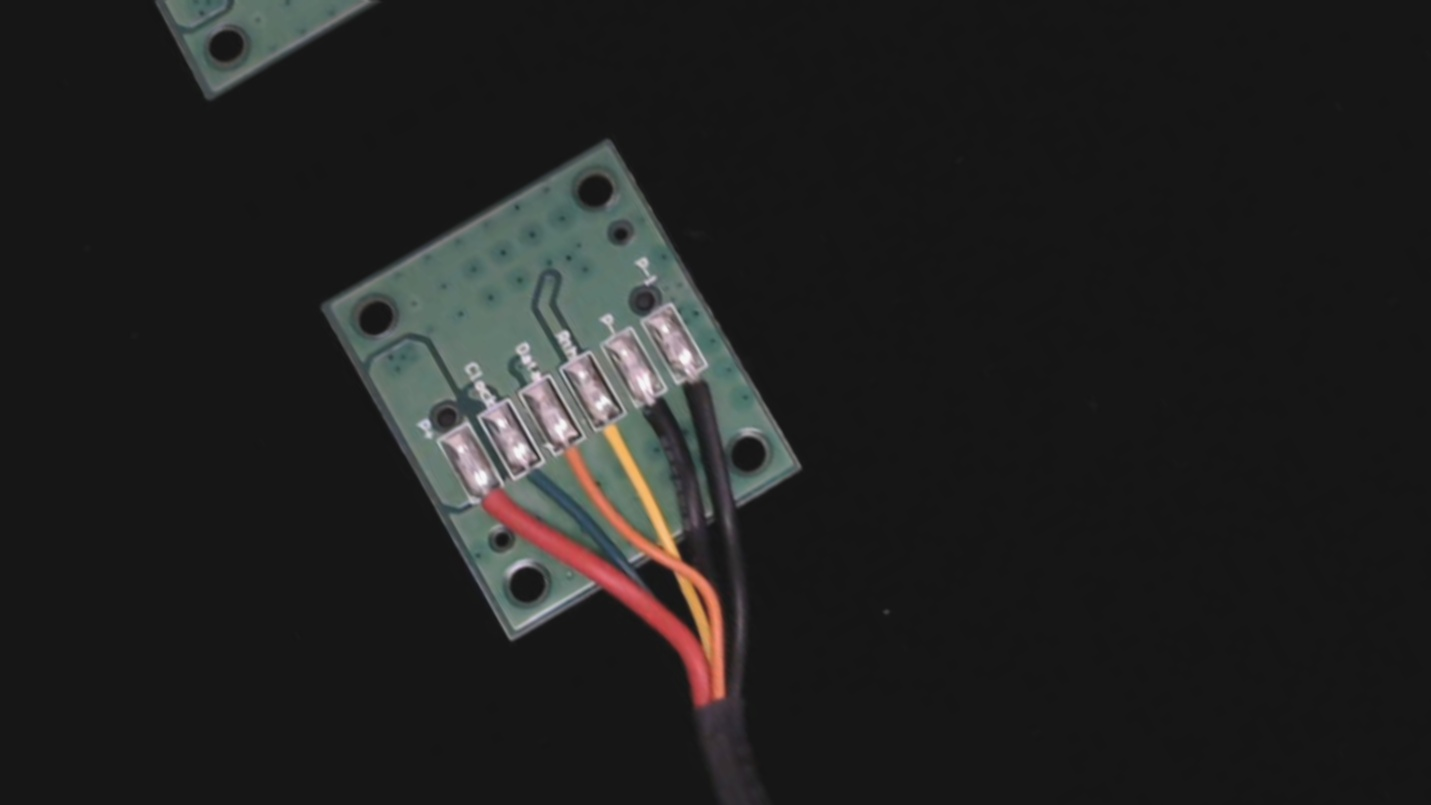Black: (619, 372, 701, 461)
Black1: (664, 349, 737, 427)
Green: (499, 439, 575, 519)
Orange: (537, 417, 614, 501)
Red: (458, 469, 536, 551)
Yellow: (579, 398, 656, 482)
